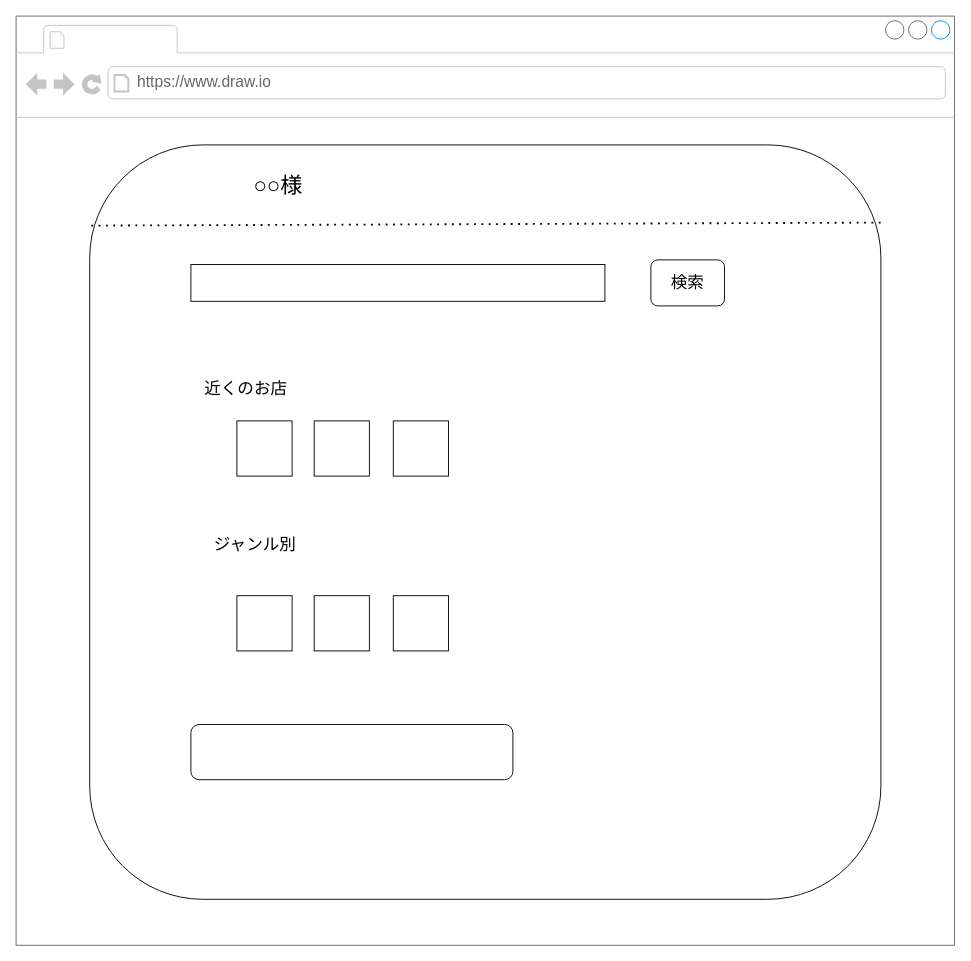
Some shapes in this 971 by 961 pixel diagram are drawn without their labels. The shapes that lost their labels are listed below. From the top down, each one's centre as x and y in pixels, then its label:
the point at 121,38: Page 1
the point at 351,752: お気に入り店舗
